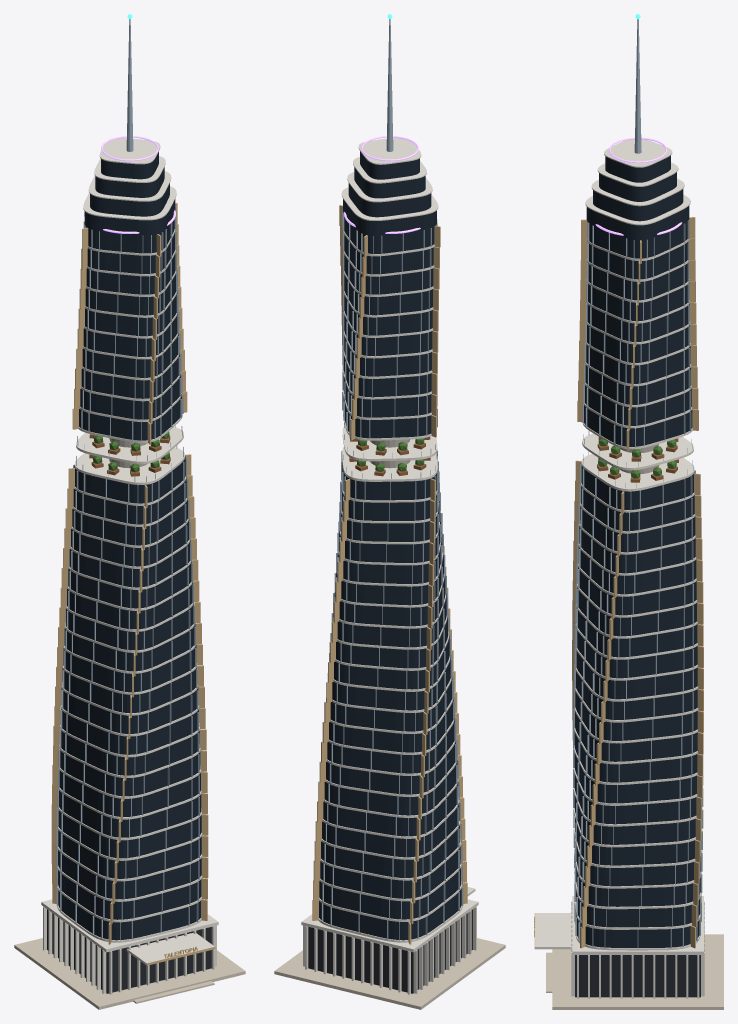
Rendered from talentopia_tower.glb.
3 views of the same model, side by side, from view 1: azimuth 30°, elevation 25°; view 2: azimuth 150°, elevation 25°; view 3: azimuth 270°, elevation 25° (orthographic).
Visible parts, largest first — view 1: TalentopiaTower; view 2: TalentopiaTower; view 3: TalentopiaTower.
Boxes of the visible parts, x1,y1,x2,y2 form: TalentopiaTower: (14, 14, 245, 1009); TalentopiaTower: (274, 14, 505, 1009); TalentopiaTower: (534, 14, 723, 1009).
Bounding box in the file's own units: 30 × 185 × 33.18.
